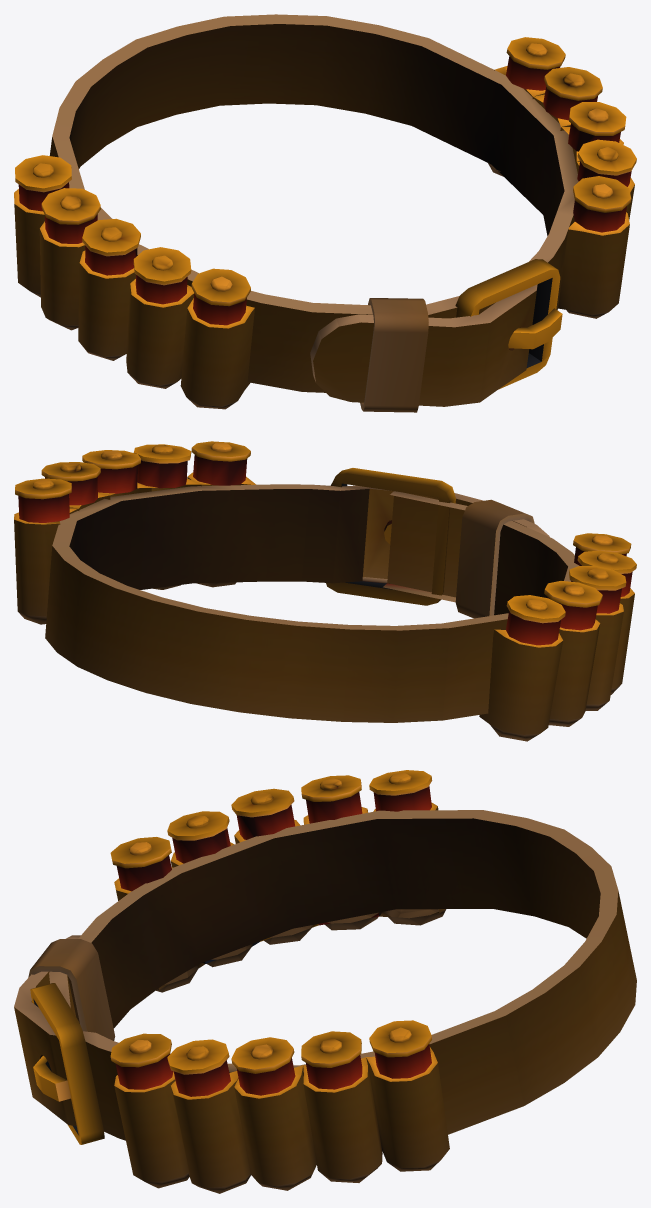
The model's file is Belt_Bandolier.gltf.
3 renders of one model, top to bottom at view 1: azimuth 30°, elevation 25°; view 2: azimuth 150°, elevation 25°; view 3: azimuth 270°, elevation 25°, orthographic. The views are drawn at different scales.
Visible parts, largest first — view 1: Belt_Bandolier; view 2: Belt_Bandolier; view 3: Belt_Bandolier.
Part boxes in pixels (left/top/right/bottom): Belt_Bandolier: left=14, top=14, right=636, bottom=412; Belt_Bandolier: left=14, top=441, right=636, bottom=741; Belt_Bandolier: left=14, top=770, right=636, bottom=1193.
Size of the model in its own units: 0.9426 by 0.3082 by 0.8625.
2 materials, 2 textured.
